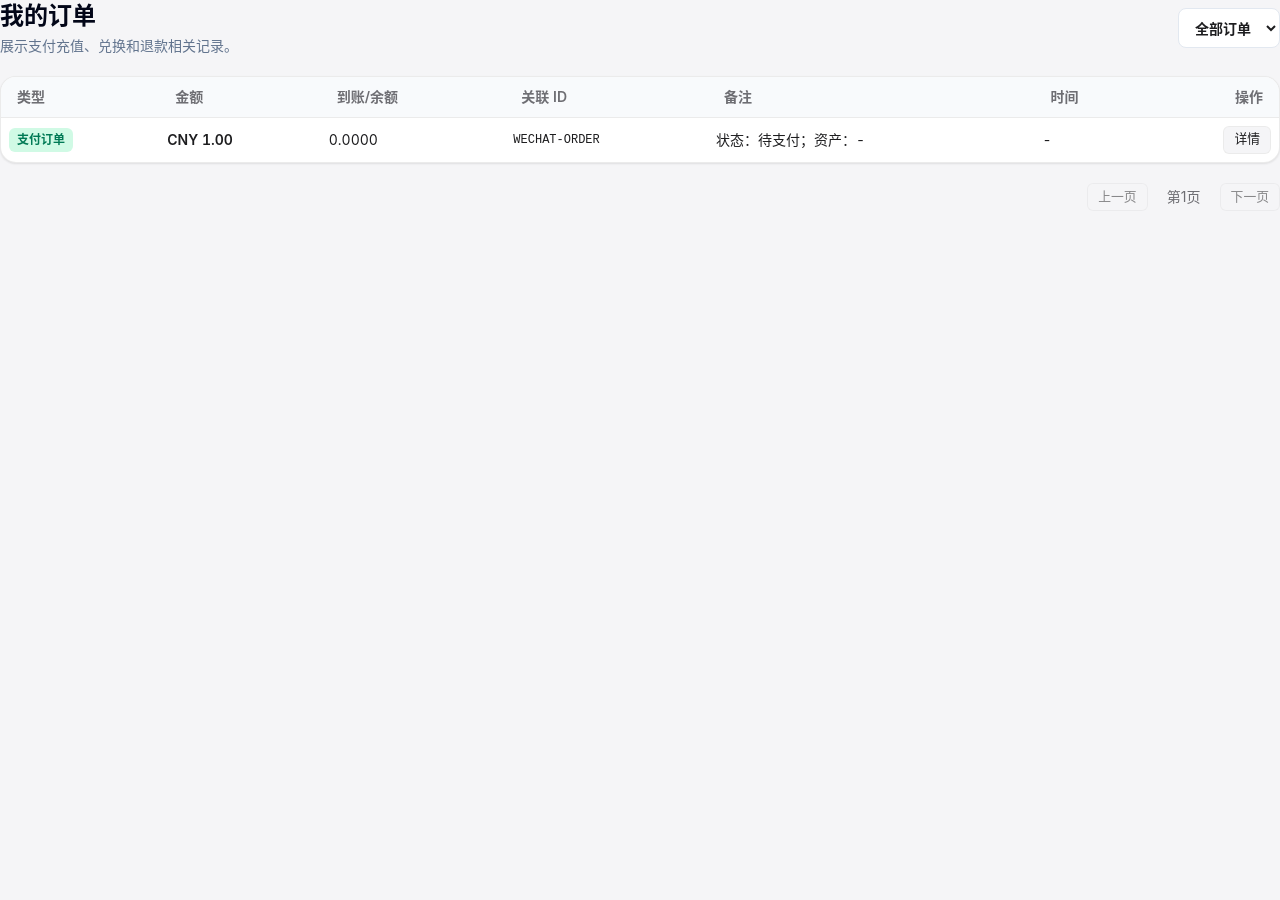
Test: OrdersPage › keeps Native orders in payment filters and refreshes an uncertain order without a QR
Expected: the button with aria-label "查看订单 WECHAT-ORDER" is shown, [1223,126,1271,154]
Select "支付订单" in the dropdown: coordinates (1229, 28) [1178,8,1279,48]
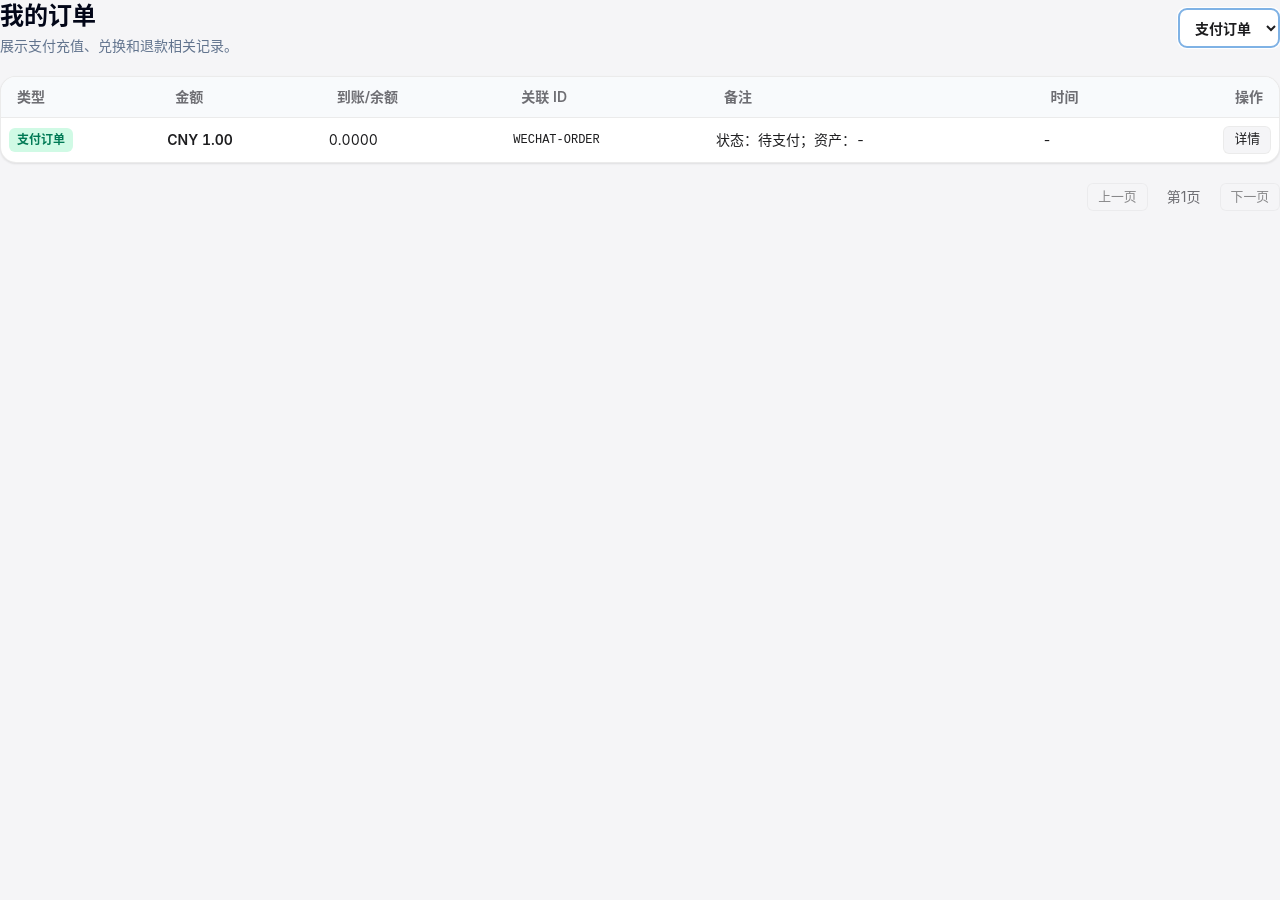
Select "充值记录" in the dropdown: coordinates (1229, 28) [1178,8,1279,48]
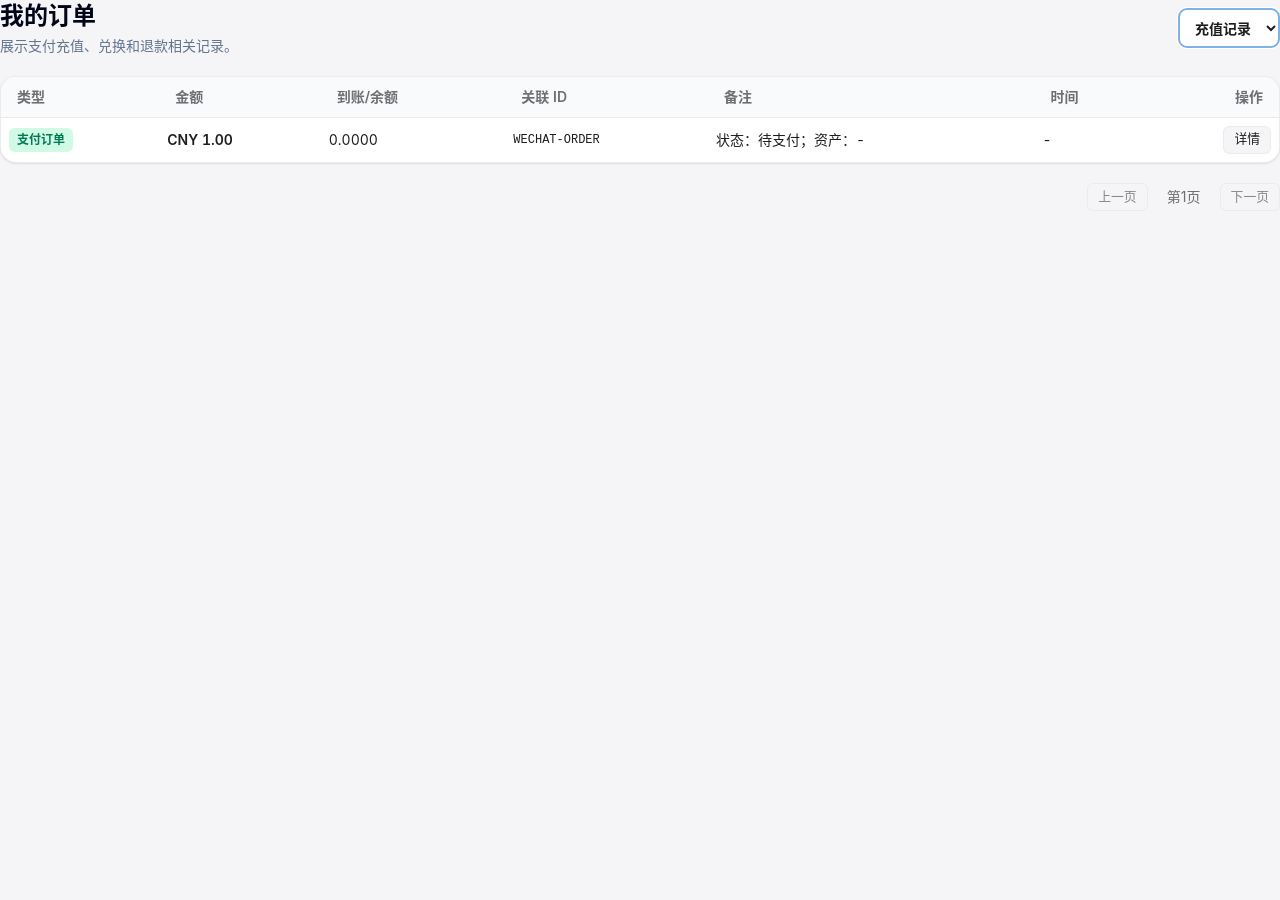
Click the button with aria-label "查看订单 WECHAT-ORDER": coordinates (1247, 140) [1223,126,1271,154]
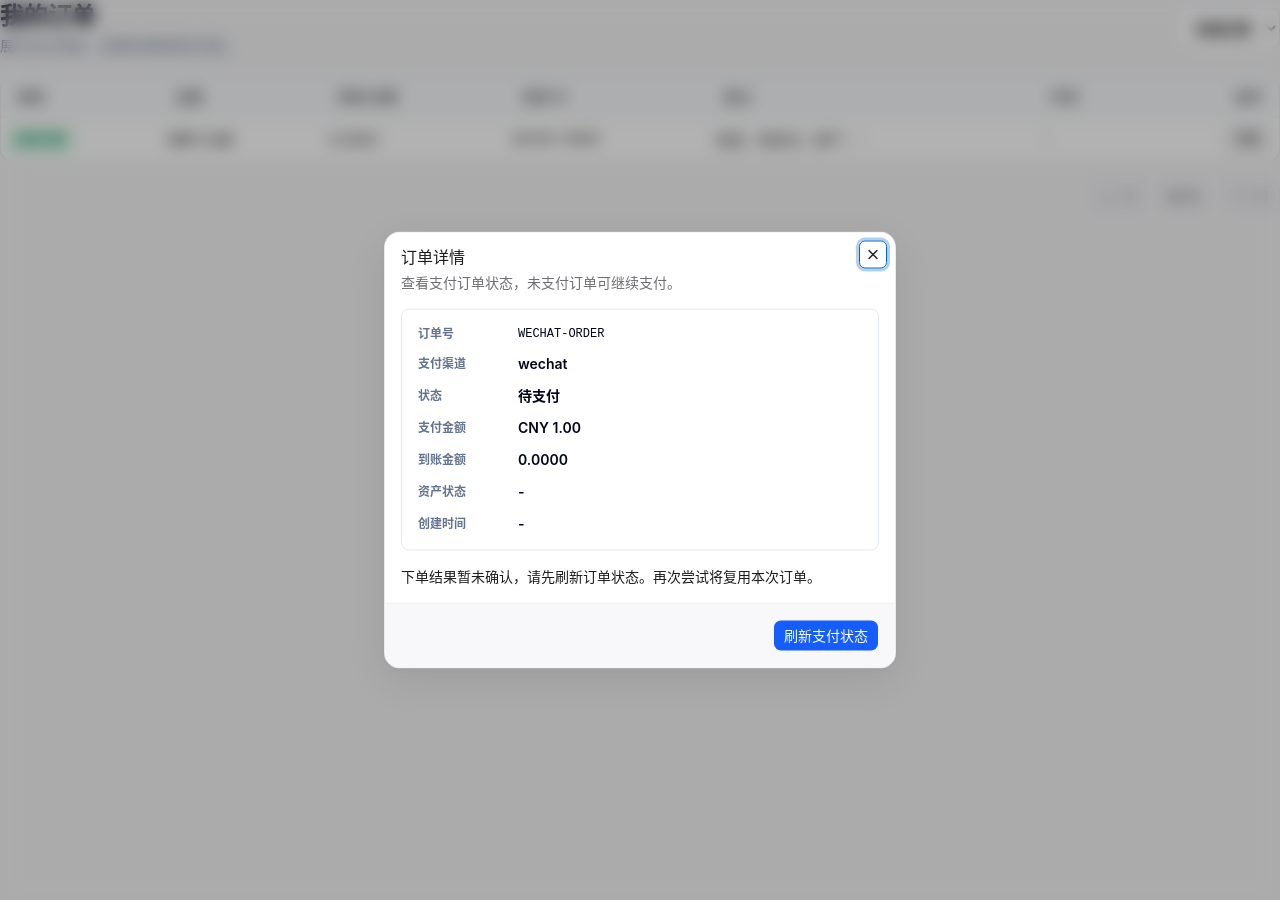
Expected: the button "刷新支付状态" is enabled
Expected: the text "下单结果暂未确认，请先刷新订单状态。再次尝试将复用本次订单。" is shown, [401,566,879,586]
Click the button "刷新支付状态": coordinates (826, 636) [773,620,879,652]
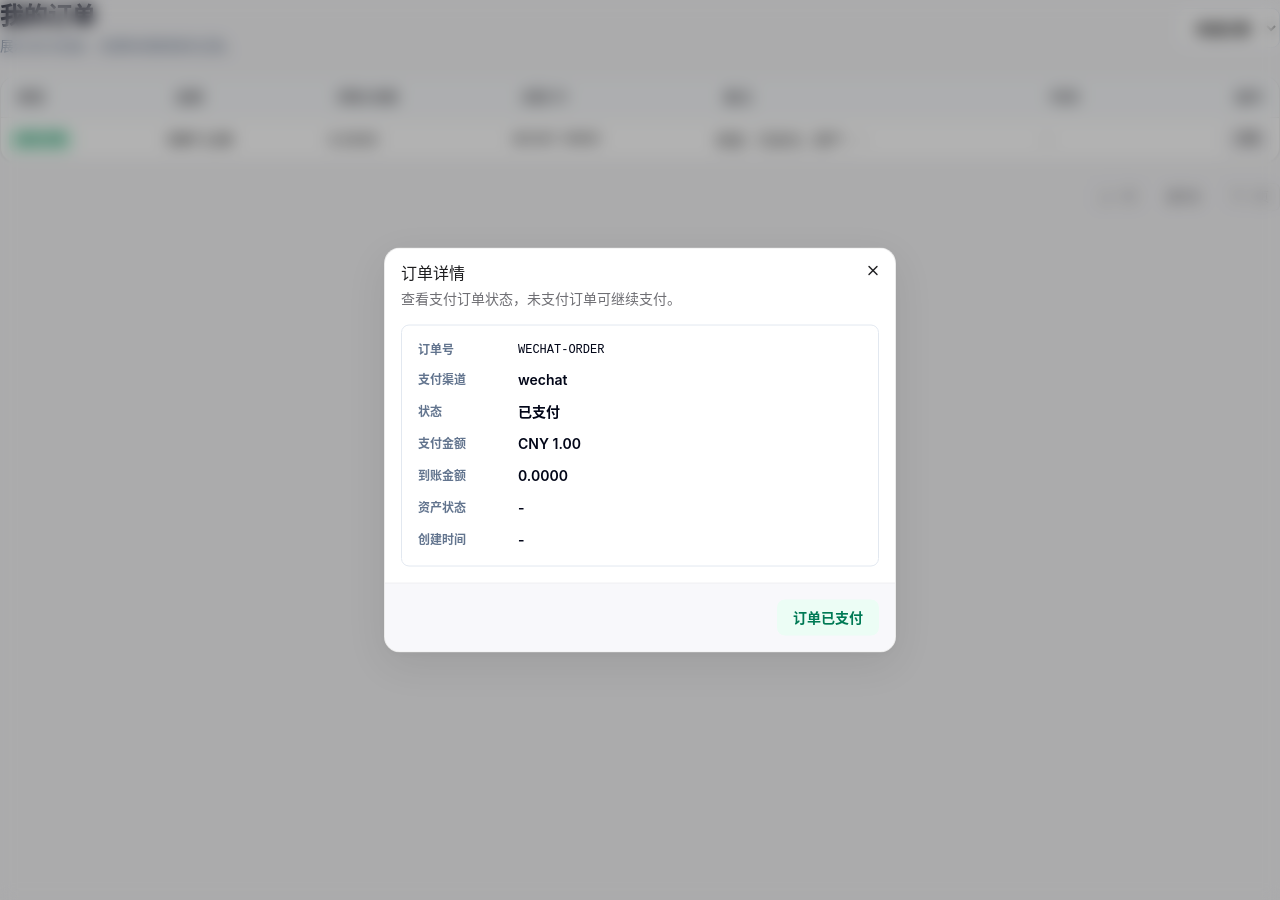
Expected: the text "订单已支付" is shown, [777,600,879,636]
